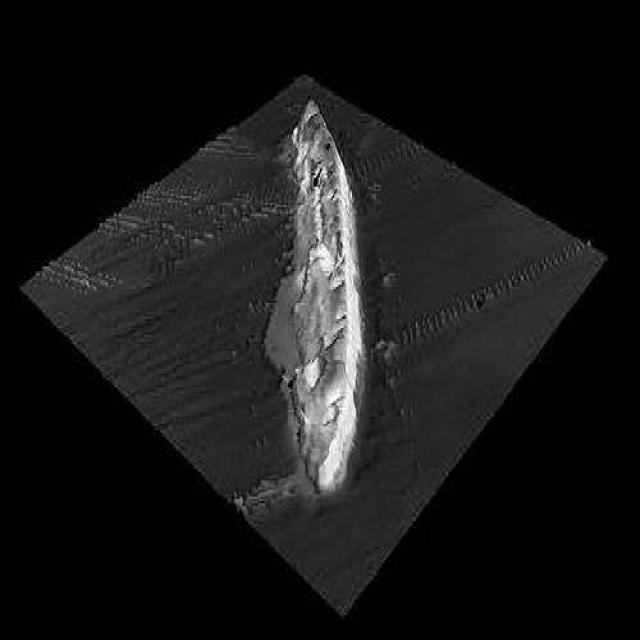ship: (282, 96, 362, 494)
